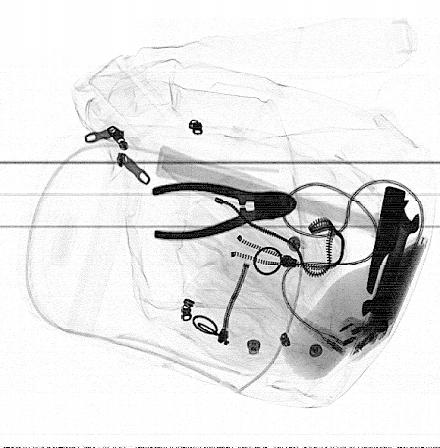Hammer: (154, 144, 406, 295)
Pliers: (152, 181, 298, 242)
Powerbank: (348, 237, 428, 362)
Wrench: (362, 199, 421, 331)
